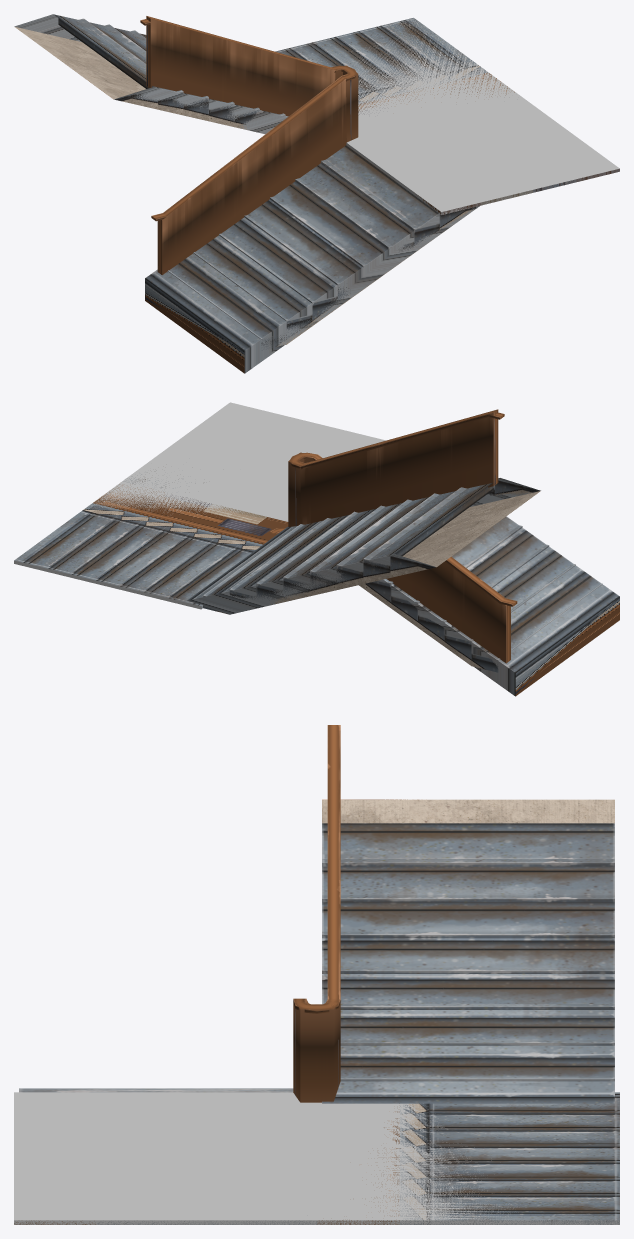
File: stairs03_B.FBX
3 views of the same model, one above another, from view 1: azimuth 30°, elevation 25°; view 2: azimuth 150°, elevation 25°; view 3: azimuth 270°, elevation 25° (orthographic). The views are drawn at different scales.
Visible parts, largest first — view 1: stairs03_B_COL, stairs03_B; view 2: stairs03_B_COL, stairs03_B; view 3: stairs03_B_COL, stairs03_B.
Part boxes in pixels (x1,y1,x2,y2): stairs03_B_COL: (14,14,619,373); stairs03_B: (14,18,619,350); stairs03_B_COL: (14,409,619,696); stairs03_B: (14,402,602,672); stairs03_B_COL: (14,725,619,1224); stairs03_B: (14,799,619,1224).
Bounding box in the file's own units: 675 × 442 × 600.
